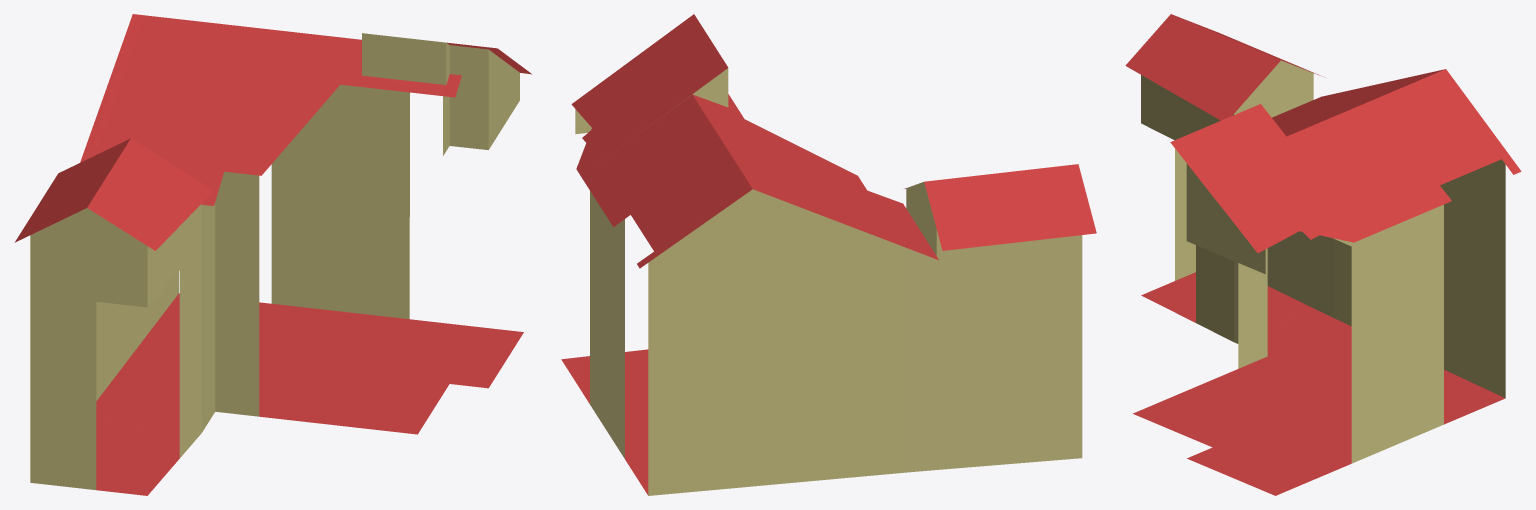
The picture shows the model from 3 angles, left to right: view 1: azimuth 30°, elevation 25°; view 2: azimuth 150°, elevation 25°; view 3: azimuth 270°, elevation 25°; orthographic projection. The views are drawn at different scales.
Bounding box in the file's own units: 24.6 × 17.12 × 15.07.
